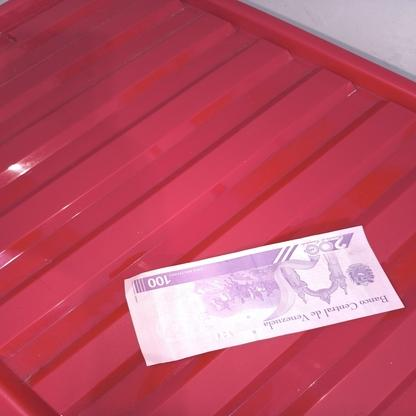vef_back: (123, 224, 404, 368)
